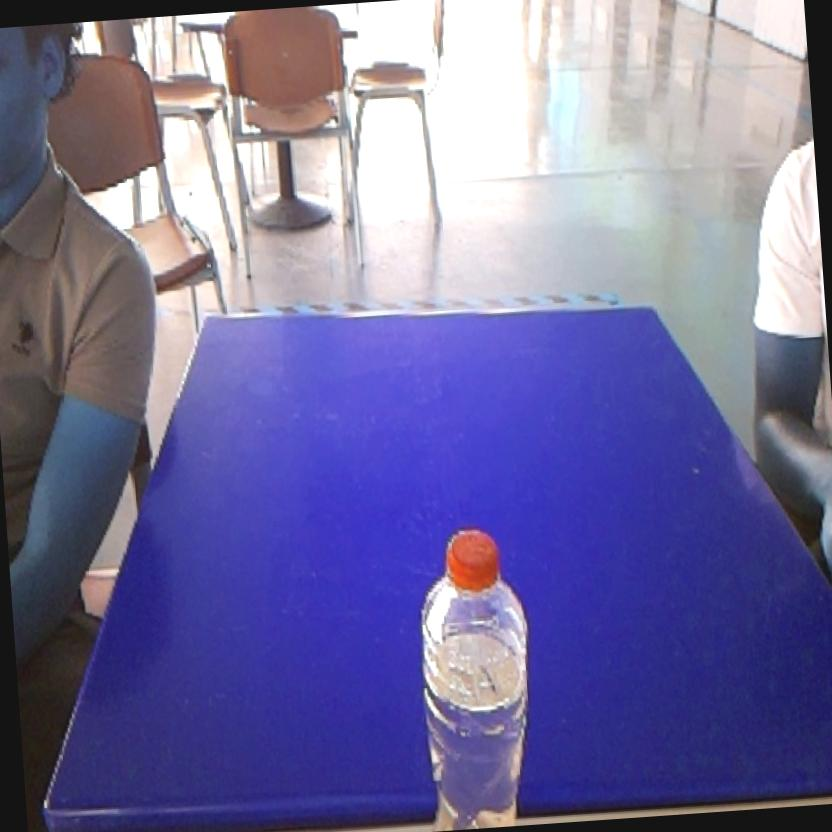no_label: (400, 514, 549, 826)
